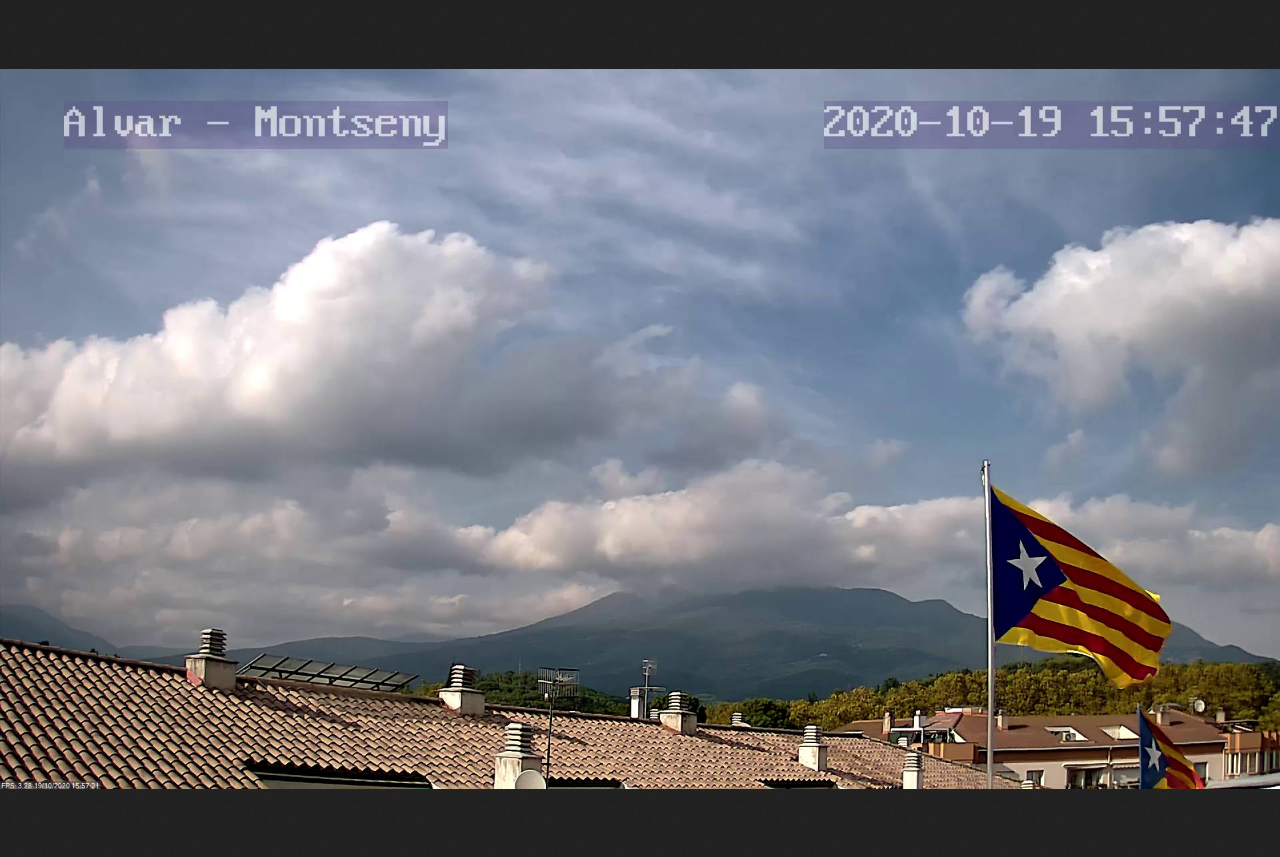maybe: (988, 489, 1171, 684)
